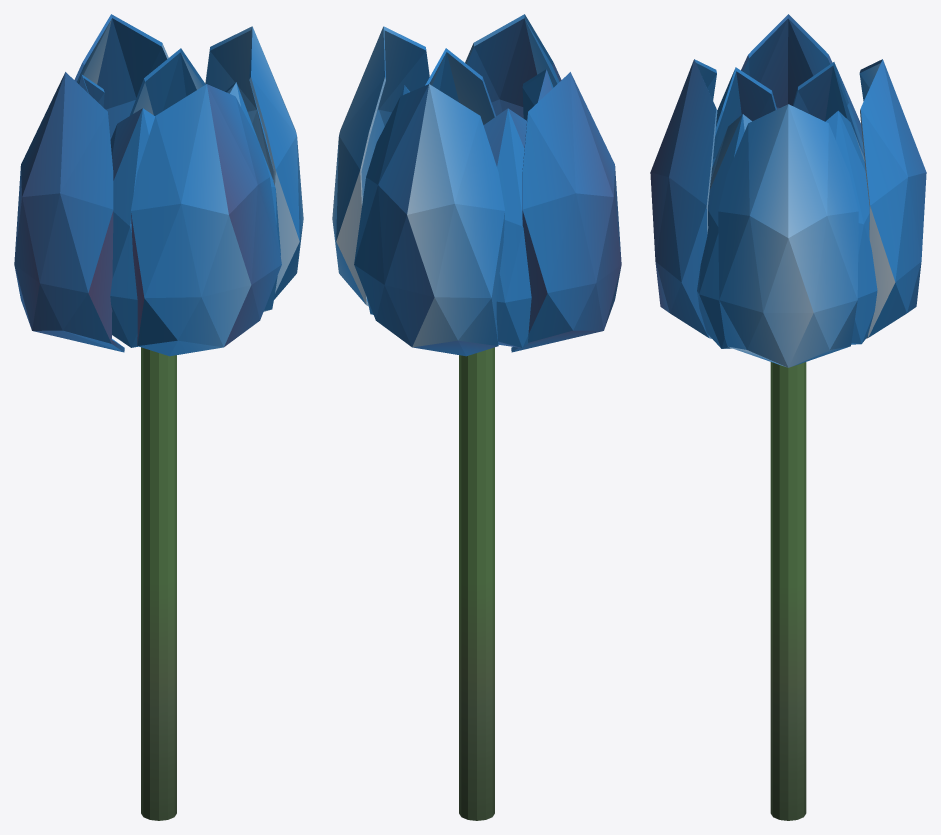
The model's file is Tulip2.fbx.
3 renders of one model, left to right at view 1: azimuth 30°, elevation 25°; view 2: azimuth 150°, elevation 25°; view 3: azimuth 270°, elevation 25°, orthographic.
Visible parts, largest first — view 1: Icosphere.022; view 2: Icosphere.022; view 3: Icosphere.022.
Part boxes in pixels (left/top/right/bottom): Icosphere.022: left=14, top=14, right=303, bottom=820; Icosphere.022: left=332, top=14, right=621, bottom=820; Icosphere.022: left=650, top=14, right=926, bottom=820.
Size of the model in its own units: 86.44 by 231 by 76.55.
